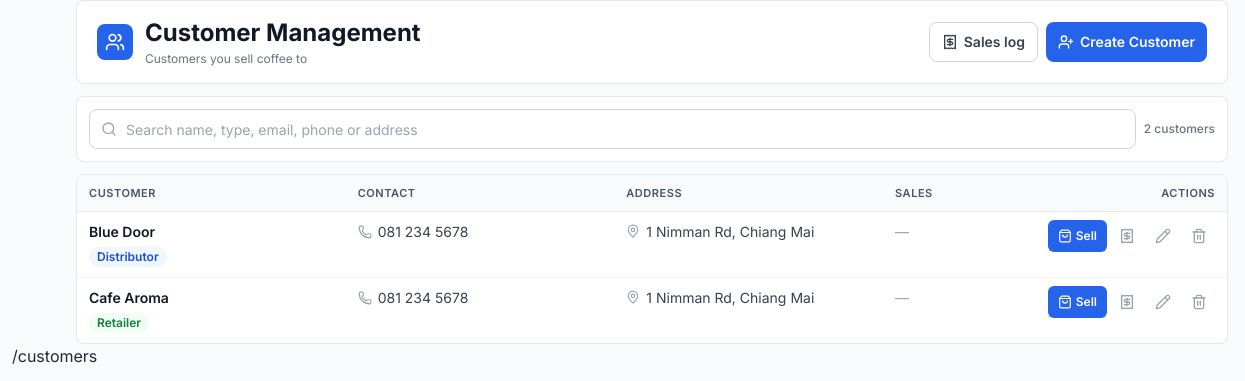
Test case: CustomerManagement layout › counts the customers the search leaves
expect the row "Blue Door" is shown: met, box [77,212,1227,278]
expect the text "2 customers" is shown: met, box [1144,121,1215,137]
Type "door" into the search field named "Search customers".
click(612, 129); type("door")  # box [89,109,1136,149]
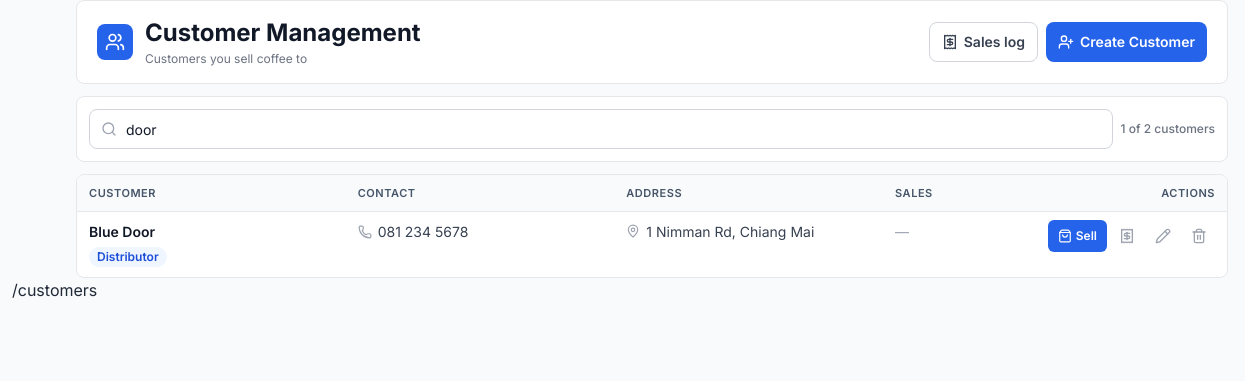
expect the text "1 of 2 customers" is shown: met, box [1121,121,1215,137]
expect the text "Cafe Aroma" is gone: met
